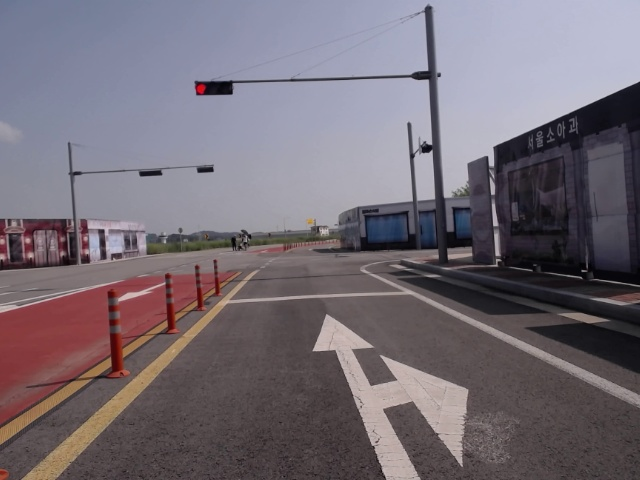red_3: (196, 82, 233, 96)
